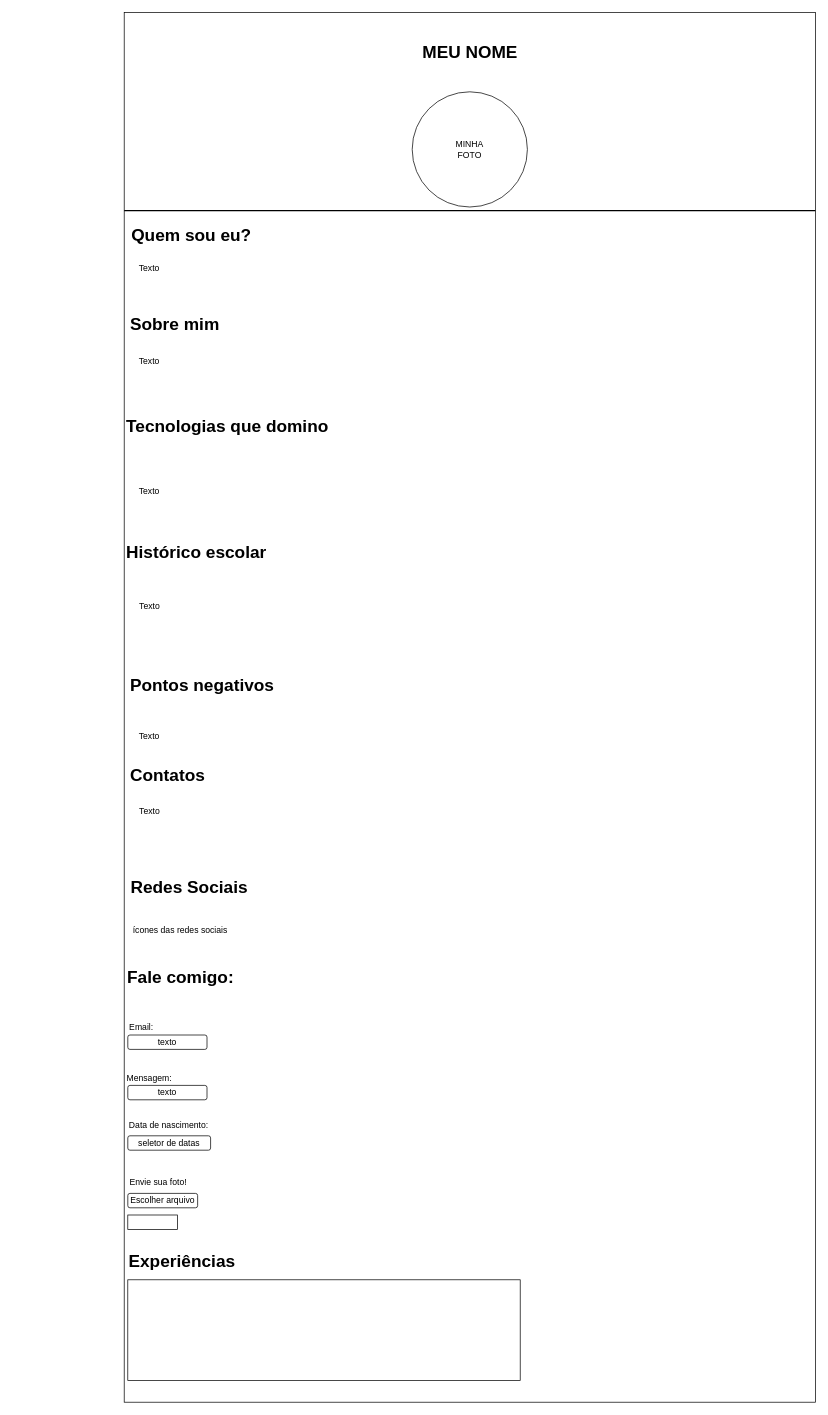
This 828x1415 diagram has some shape labels left out. The shapes that lost their labels are listed below. From the top down, each one's centre as x and y in pixels, then its label:
At pixel 152 1221: "Enviar".
At pixel 323 1330: "Tabela".
